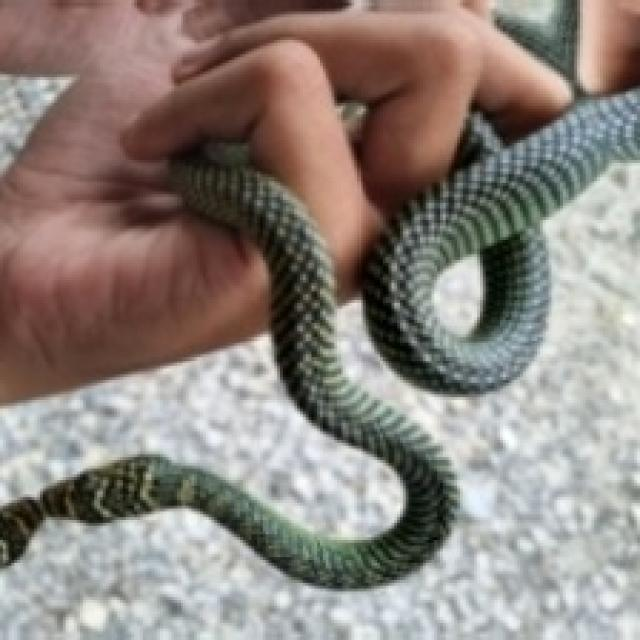paradise tree snake: (0, 163, 637, 637), (3, 217, 637, 637), (0, 334, 400, 534), (0, 343, 397, 531), (3, 9, 123, 66), (126, 11, 189, 114)
